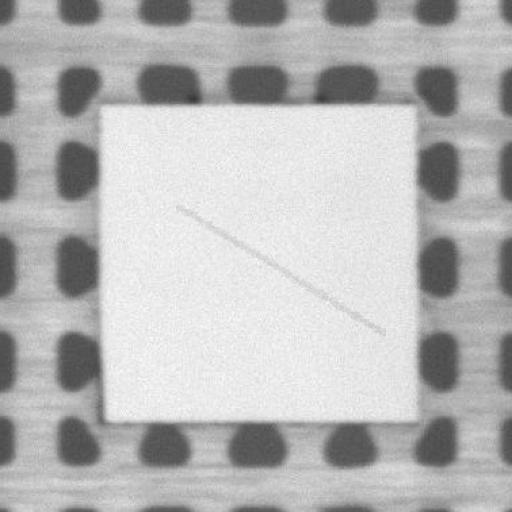DIE_CRACK: (177, 206, 382, 333)
